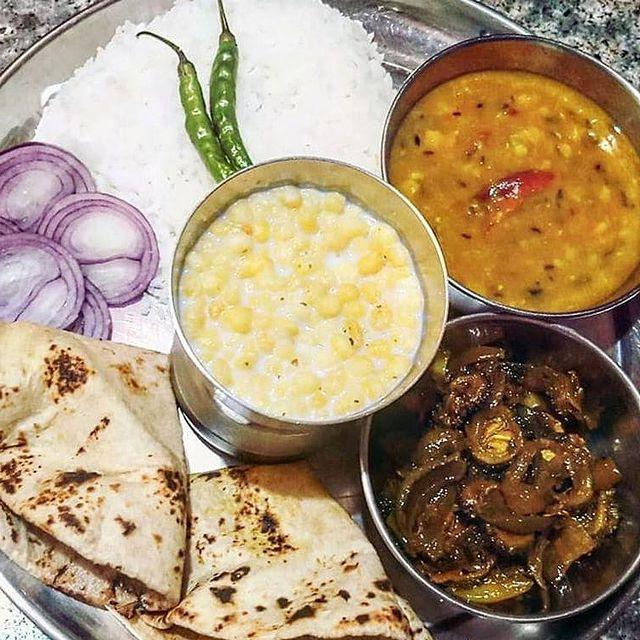Roti: (118, 451, 412, 640), (0, 344, 195, 606)
